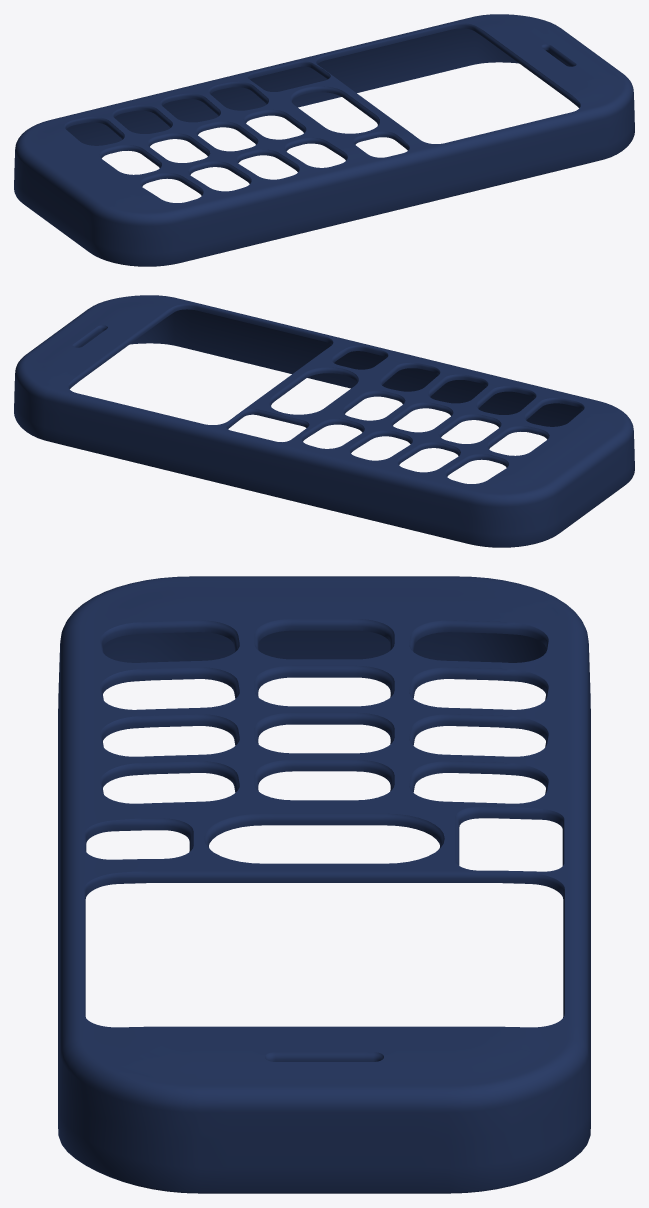
Rendered from SM_Phone_Faceplate.glb.
The picture shows the model from 3 angles, top to bottom: view 1: azimuth 30°, elevation 25°; view 2: azimuth 150°, elevation 25°; view 3: azimuth 270°, elevation 25°; orthographic projection. The views are drawn at different scales.
Visible parts, largest first — view 1: SM_Phone_Faceplate; view 2: SM_Phone_Faceplate; view 3: SM_Phone_Faceplate.
Part boxes in pixels (bbox=[...]): SM_Phone_Faceplate: bbox=[14, 14, 634, 266]; SM_Phone_Faceplate: bbox=[14, 295, 634, 547]; SM_Phone_Faceplate: bbox=[58, 576, 590, 1193].
Size of the model in its own units: 0.1122 by 0.0101 by 0.048.
